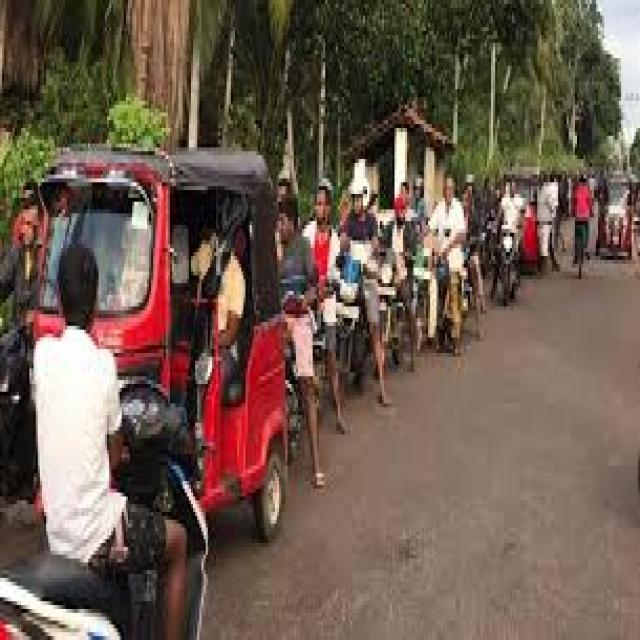motorcycle: (6, 380, 206, 640), (0, 326, 34, 493), (336, 240, 365, 372), (378, 248, 401, 365), (413, 252, 436, 353), (497, 233, 516, 306)
person: (34, 244, 185, 640), (346, 159, 390, 407), (304, 182, 344, 434), (277, 198, 315, 430), (428, 178, 462, 357), (0, 186, 38, 322), (218, 233, 243, 388), (573, 178, 590, 279), (394, 182, 407, 303), (502, 182, 520, 237)
three wheeler: (34, 147, 285, 539), (510, 167, 537, 272), (600, 175, 630, 260)
